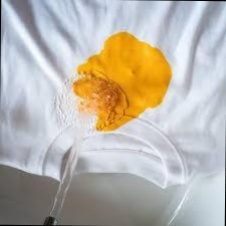mustard: (79, 33, 173, 129), (91, 72, 128, 117), (70, 75, 92, 99)
